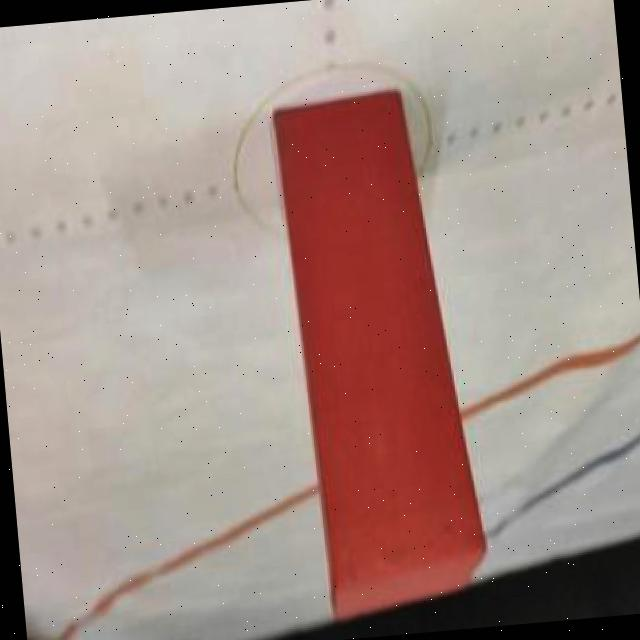redbox: (268, 86, 490, 624)
